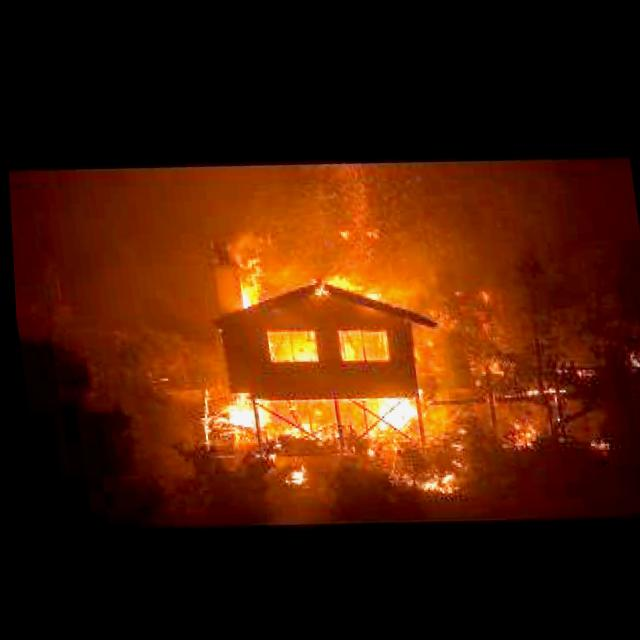helmet: (204, 381, 274, 443), (314, 251, 392, 303), (219, 239, 269, 310), (353, 379, 415, 434)
